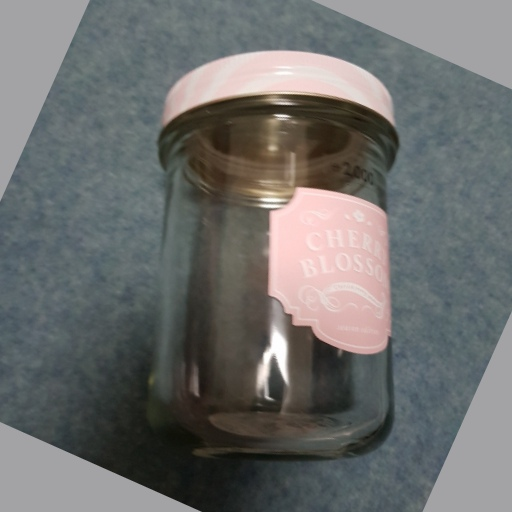Glass_5: (142, 51, 397, 461)
